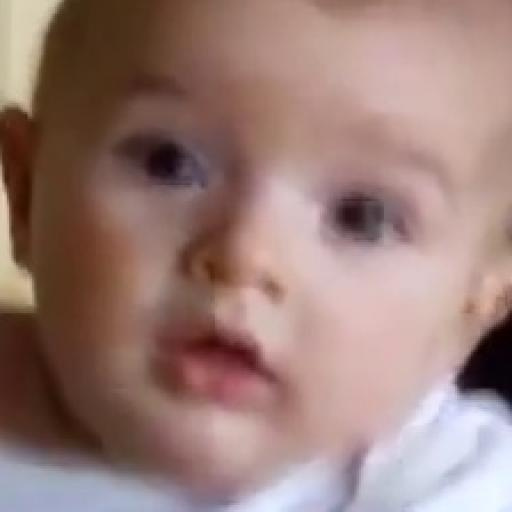Autism: (50, 7, 512, 489)
